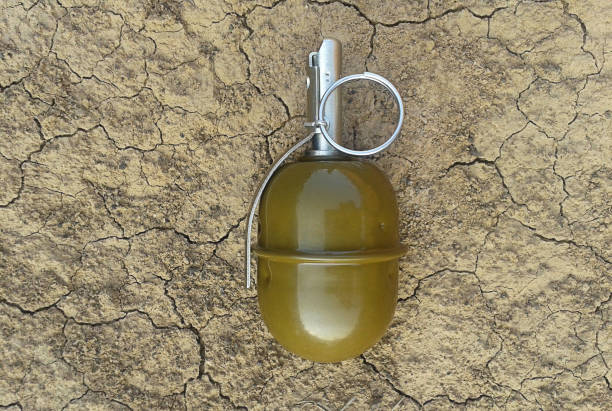e1: (244, 35, 409, 356)
